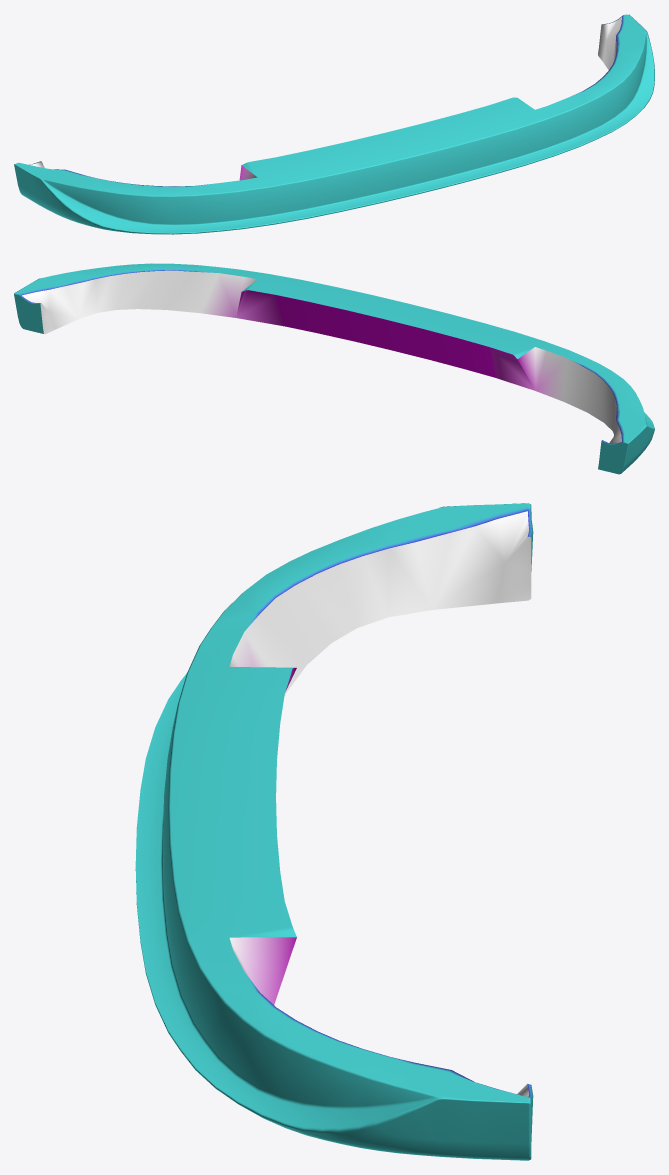
The model's file is Car_Mini_CountrymanJCW_2017_Splitter_SetD_AltI.fbx.
The picture shows the model from 3 angles, top to bottom: view 1: azimuth 30°, elevation 25°; view 2: azimuth 150°, elevation 25°; view 3: azimuth 270°, elevation 25°; orthographic projection. The views are drawn at different scales.
Visible parts, largest first — view 1: Splitter 6; view 2: Splitter 6; view 3: Splitter 6.
Boxes of the visible parts, box(x1,y1,x2,y2) form: Splitter 6: box(14, 14, 654, 234); Splitter 6: box(14, 263, 654, 474); Splitter 6: box(135, 503, 533, 1160).
Bounding box in the file's own units: 1.81 × 0.1021 × 0.5061.
